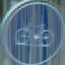bike lane: (4, 4, 60, 58)
